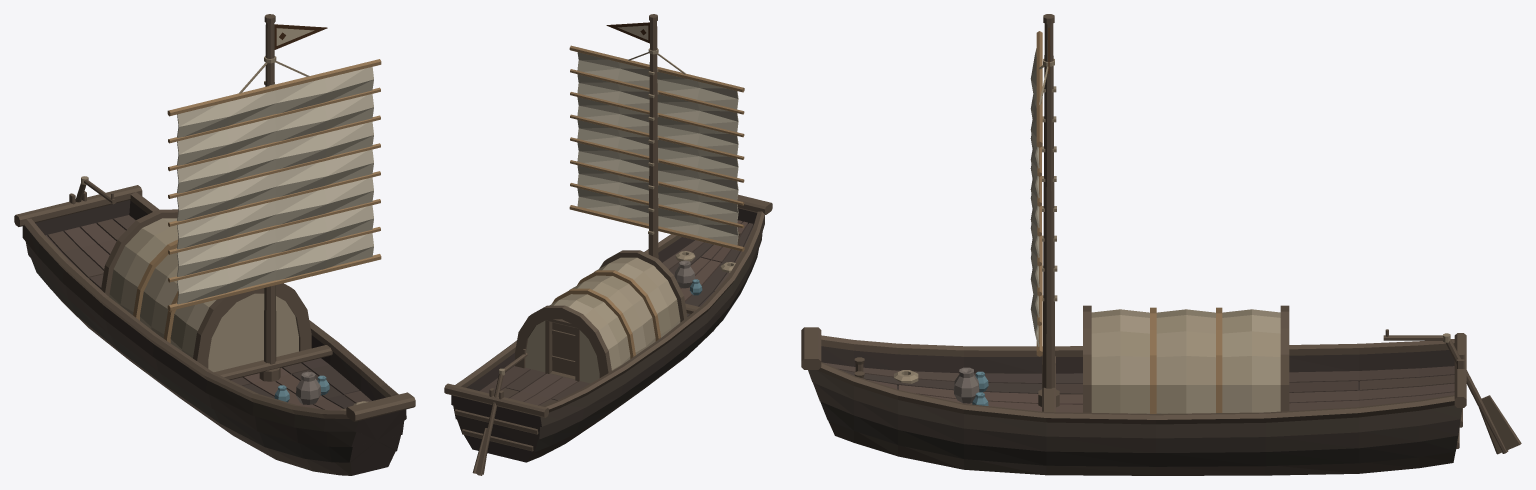
Rendered from ship.glb.
The picture shows the model from 3 angles, left to right: view 1: azimuth 30°, elevation 25°; view 2: azimuth 150°, elevation 25°; view 3: azimuth 270°, elevation 25°; orthographic projection. The views are drawn at different scales.
Parts seen in each view (by area): view 1: barge-body, sail, cargo, pennant; view 2: barge-body, sail, rudder, cargo, pennant; view 3: barge-body, sail, rudder, cargo.
Boxes of the visible parts, box(x1,y1,x2,y2) form: barge-body: box(14, 14, 415, 475); sail: box(167, 59, 381, 310); cargo: box(274, 371, 368, 405); pennant: box(274, 24, 327, 49); barge-body: box(444, 14, 772, 462); sail: box(569, 45, 744, 251); rudder: box(472, 349, 527, 475); cargo: box(674, 251, 735, 295); pennant: box(606, 22, 649, 43); barge-body: box(801, 14, 1466, 475); sail: box(1030, 31, 1057, 356); rudder: box(1383, 329, 1521, 454); cargo: box(894, 367, 988, 405).
Bounding box in the file's own units: 4.76 × 8.82 × 13.12.
